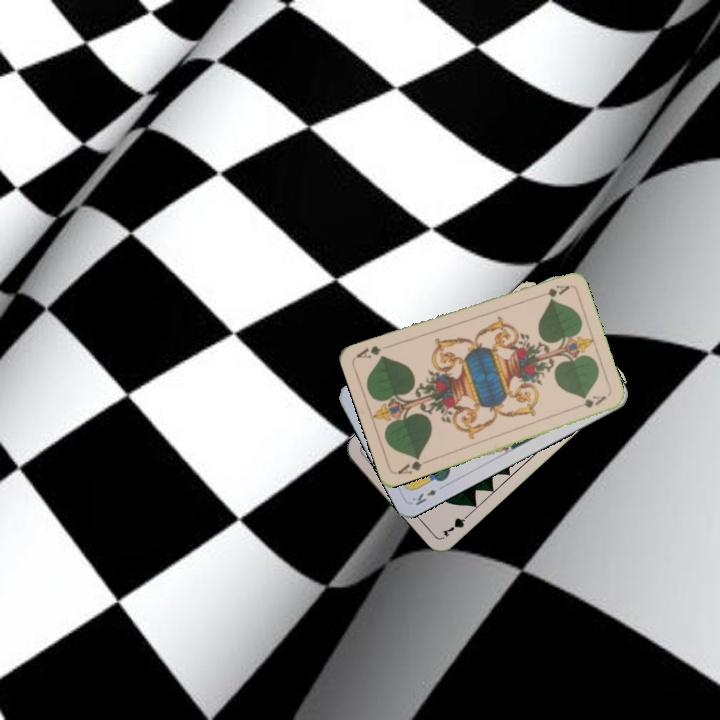EK: (408, 485, 439, 508)
G7: (438, 508, 473, 540)
GA: (393, 452, 432, 477), (532, 281, 572, 301)
